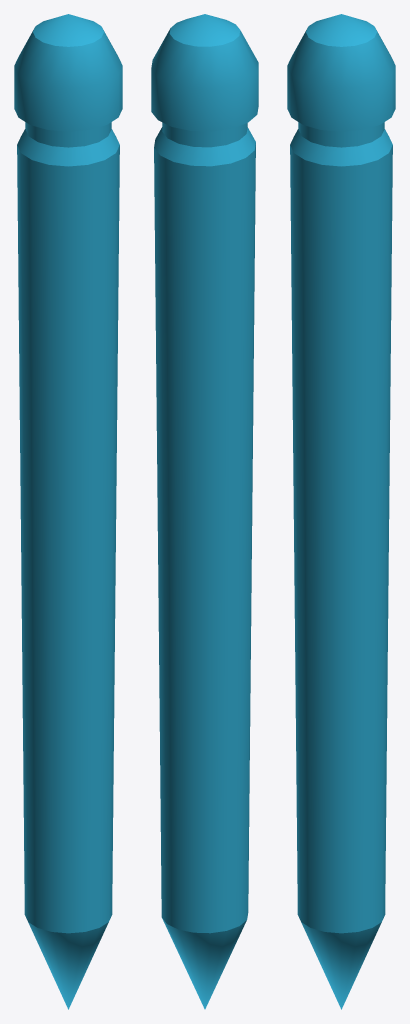
Rendered from Boligrafo.fbx.
3 renders of one model, left to right at view 1: azimuth 90°, elevation 25°; view 2: azimuth 210°, elevation 25°; view 3: azimuth 270°, elevation 25°, orthographic.
Parts seen in each view (by area): view 1: Boligrafo; view 2: Boligrafo; view 3: Boligrafo.
Part boxes in pixels (x1,y1,x2,y2): Boligrafo: (14, 14, 122, 1009); Boligrafo: (151, 14, 258, 1009); Boligrafo: (287, 14, 395, 1009).
Size of the model in its own units: 0.0387 by 0.3919 by 0.0387.
